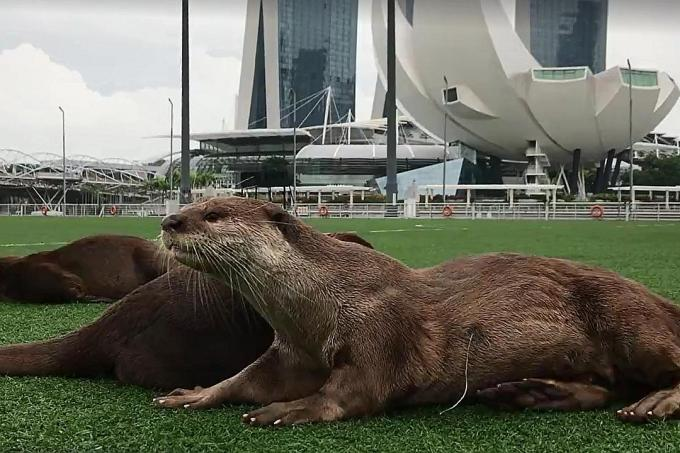otter: (143, 187, 679, 432)
